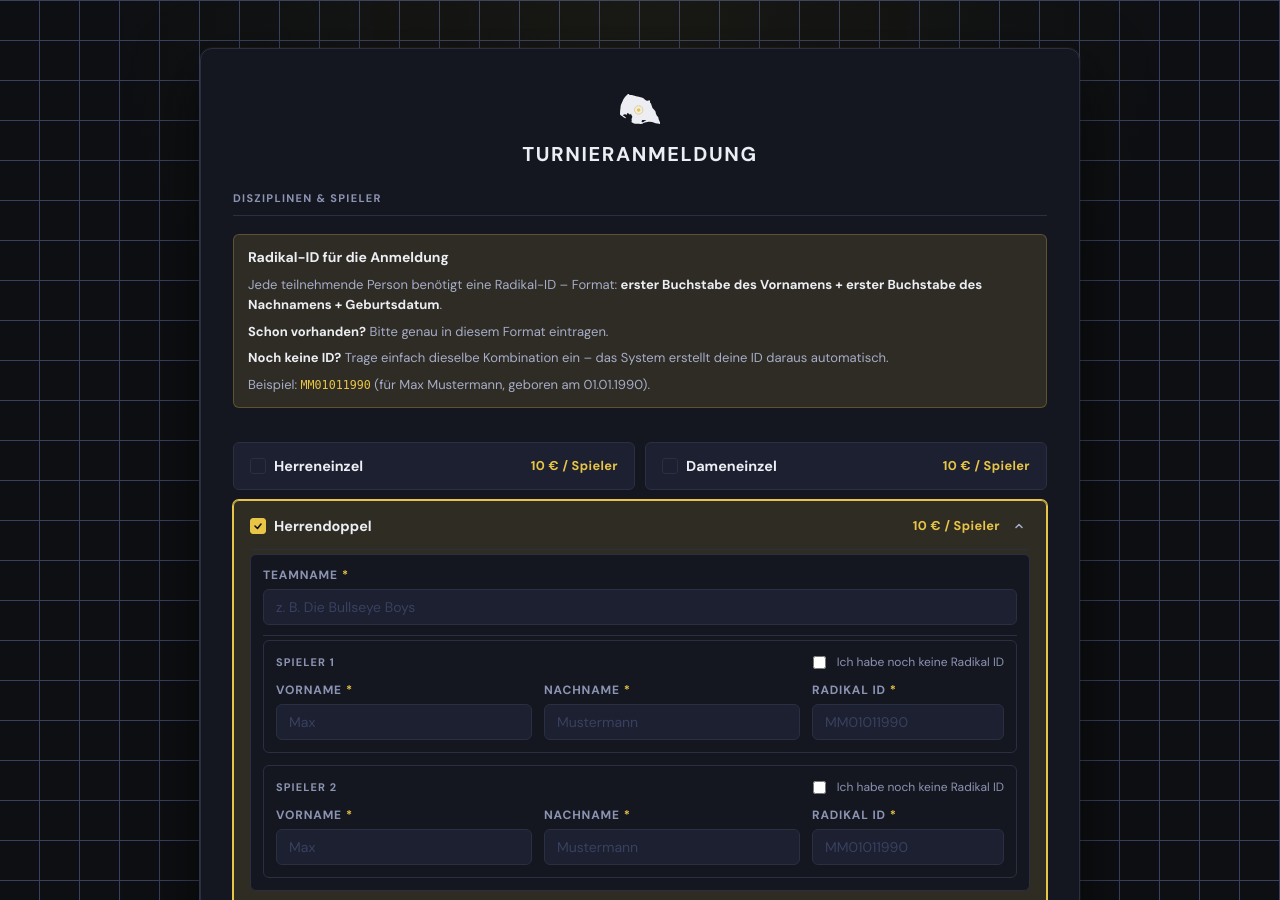
Test: AnmeldungComponent › Einklappbarer Detailbereich (#184) › klappt den Detailbereich per Klick auf die Titelzeile ein und zeigt die Meldungsanzahl
This screenshot has width=1280, height=900.
What coordinates should you click on to do the following:
click the button with class "disziplin-headline" showing "Herrendoppel 10 € / Spieler"
I would click on:
 (323, 526)
Its box is [274,515,1030,537].
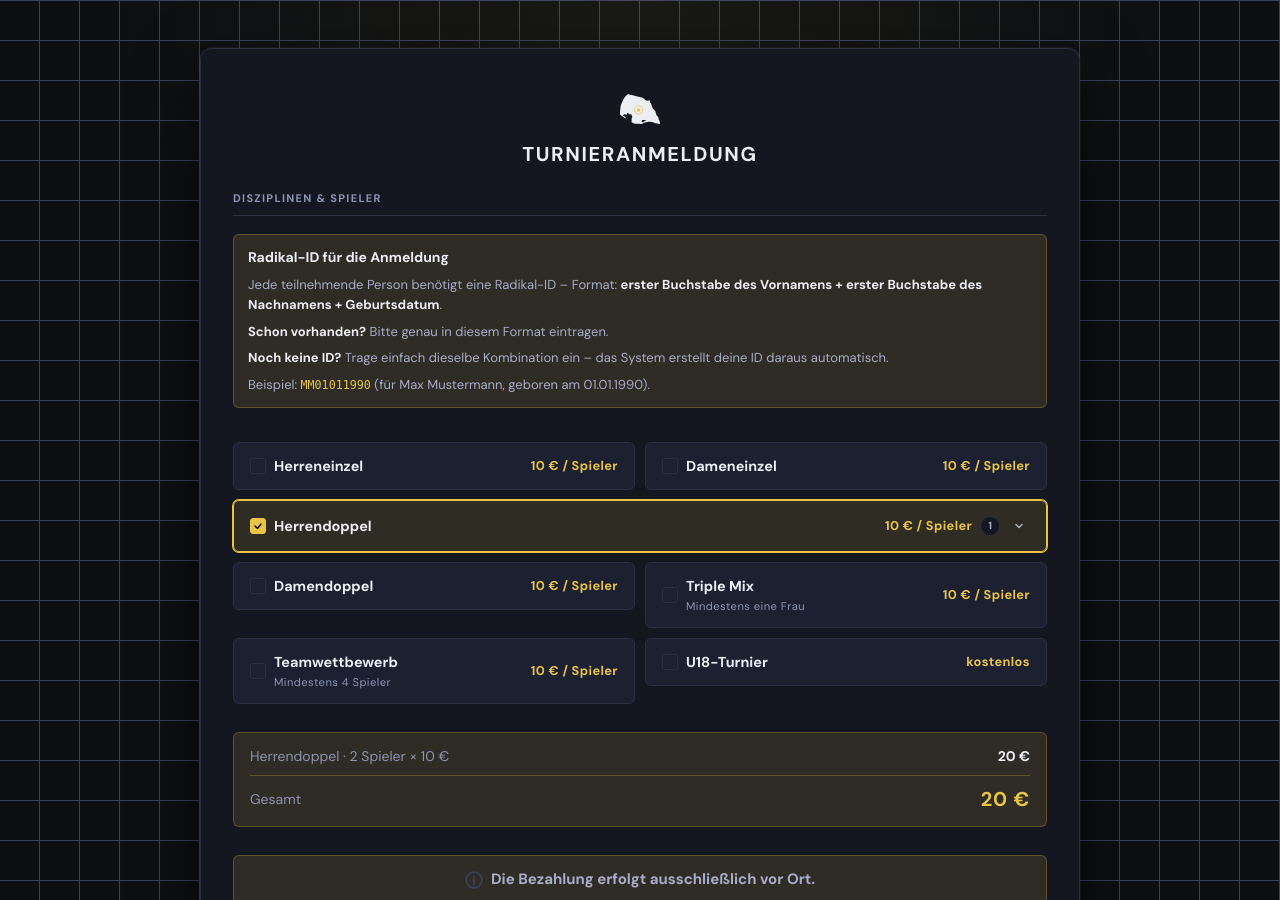
Expected: the element with class "spieler-row" is gone
